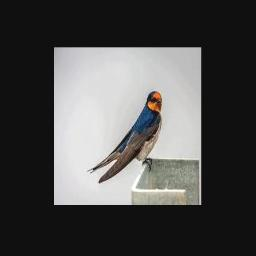Swallow: (87, 91, 162, 183)
